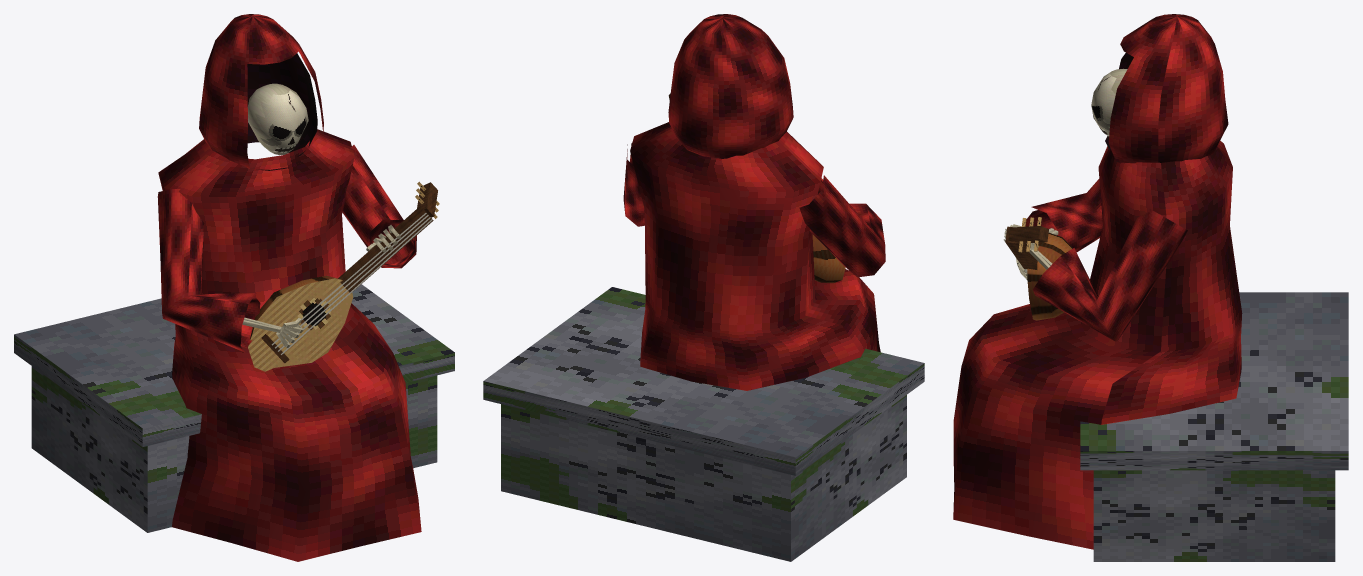
Rendered from reaper.glb.
3 renders of one model, left to right at view 1: azimuth 30°, elevation 25°; view 2: azimuth 150°, elevation 25°; view 3: azimuth 270°, elevation 25°, orthographic. The views are drawn at different scales.
Visible parts, largest first — view 1: PS1Reaper; view 2: PS1Reaper; view 3: PS1Reaper.
Part boxes in pixels (box(x1,y1,x2,y2)): PS1Reaper: box(14, 14, 454, 561); PS1Reaper: box(483, 14, 924, 561); PS1Reaper: box(953, 14, 1348, 561).
Bounding box in the file's own units: 1.4 × 1.94 × 1.47.
1 material, 1 textured.
